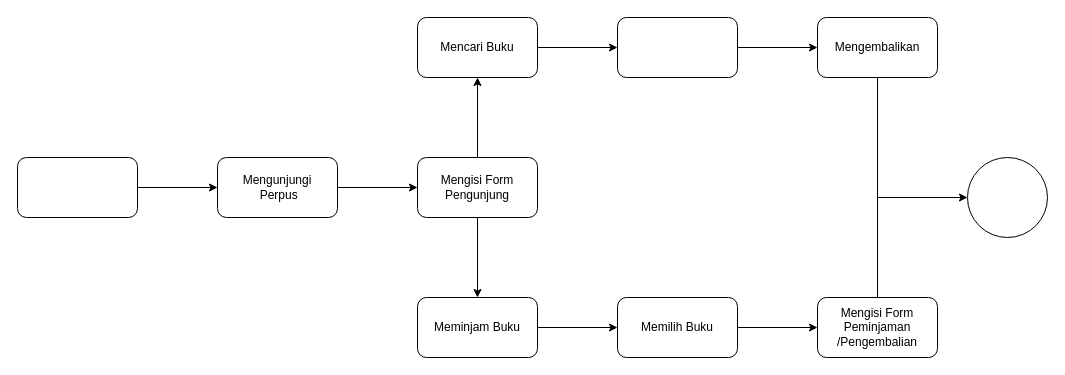
This 1065x375 diagram has some shape labels left out. The centre of each missing label's shape, as x and y in pixels:
"Membaca Buku" belongs at (677,47).
"Selesai" belongs at (1007,197).
"User" belongs at (77,187).
